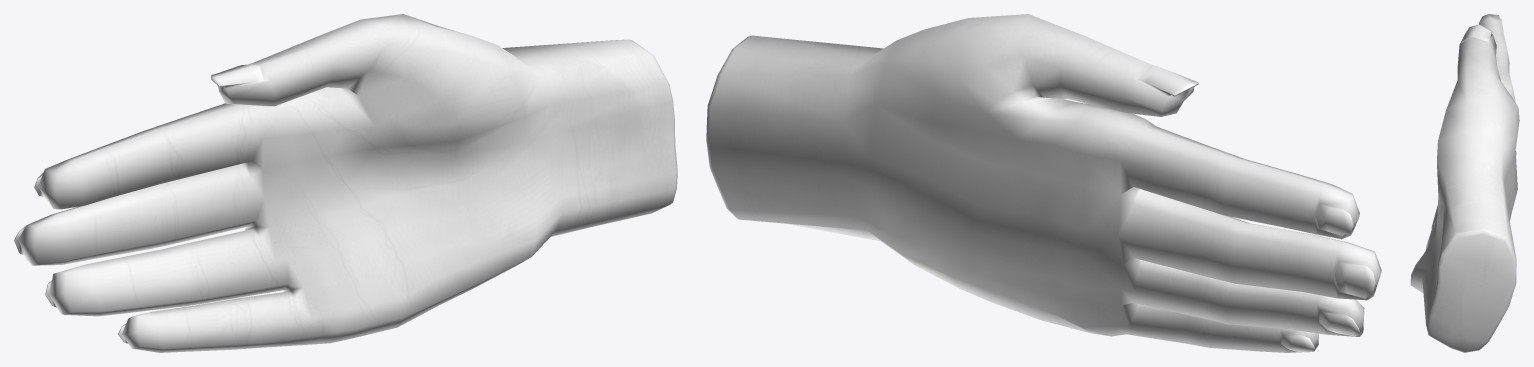
Rendered from r_smooth_paper.glb.
3 renders of one model, left to right at view 1: azimuth 30°, elevation 25°; view 2: azimuth 150°, elevation 25°; view 3: azimuth 270°, elevation 25°, orthographic. The views are drawn at different scales.
Parts seen in each view (by area): view 1: R_Smooth_Paper; view 2: R_Smooth_Paper; view 3: R_Smooth_Paper.
Part boxes in pixels (x1,y1,x2,y2): R_Smooth_Paper: [14, 14, 677, 352]; R_Smooth_Paper: [706, 14, 1381, 352]; R_Smooth_Paper: [1410, 14, 1519, 352].
Size of the model in its own units: 0.2525 by 0.1125 by 0.0511.
Materials: 1 (1 with a texture image).
